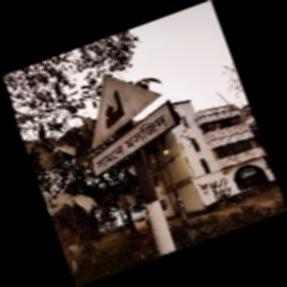Mosque in front: (89, 74, 181, 177)
